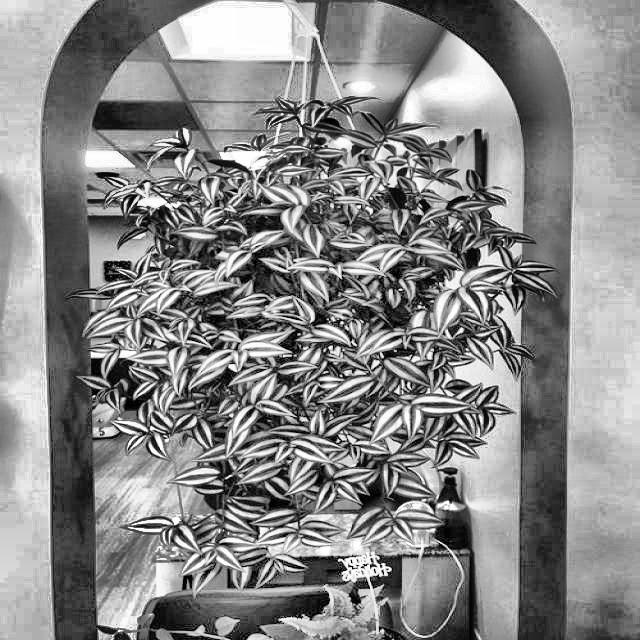plants: (74, 94, 566, 593)
